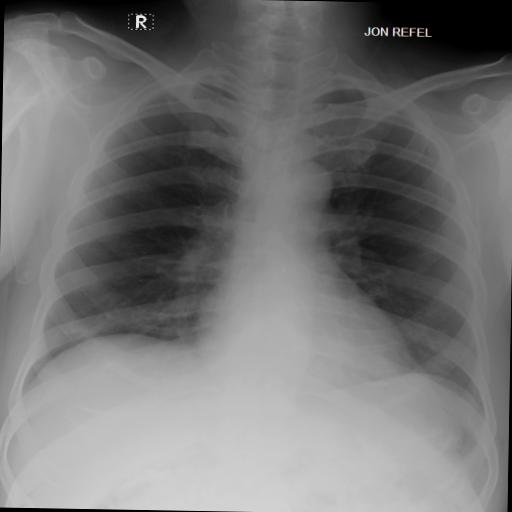normal: (10, 29, 506, 428)
